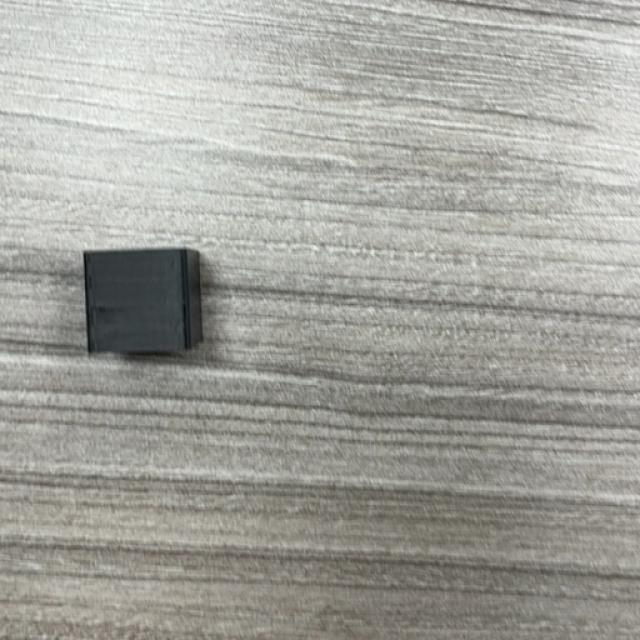Negro: (82, 248, 206, 360)
